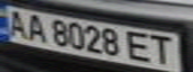0: (66, 20, 84, 52)
2: (81, 24, 103, 55)
8: (100, 25, 124, 58), (45, 17, 69, 47)
A: (21, 11, 48, 43), (3, 7, 30, 38)
E: (124, 29, 154, 63)
T: (148, 33, 181, 65)
